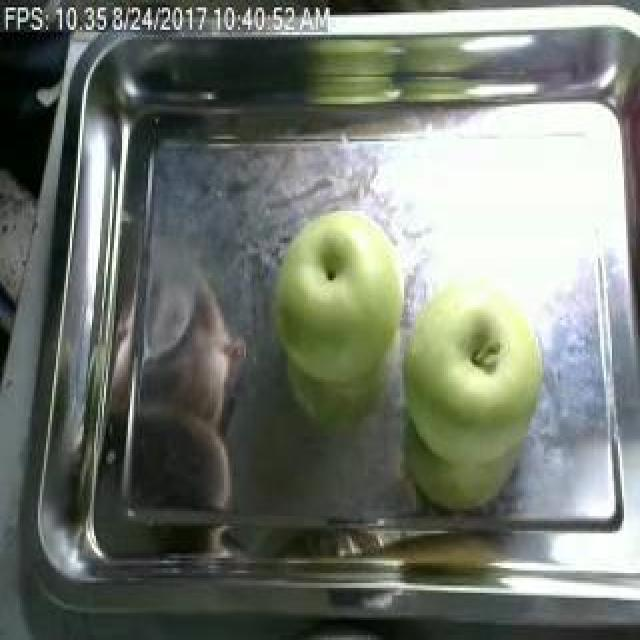Rotten Apple: (400, 277, 542, 455), (279, 208, 403, 372)
